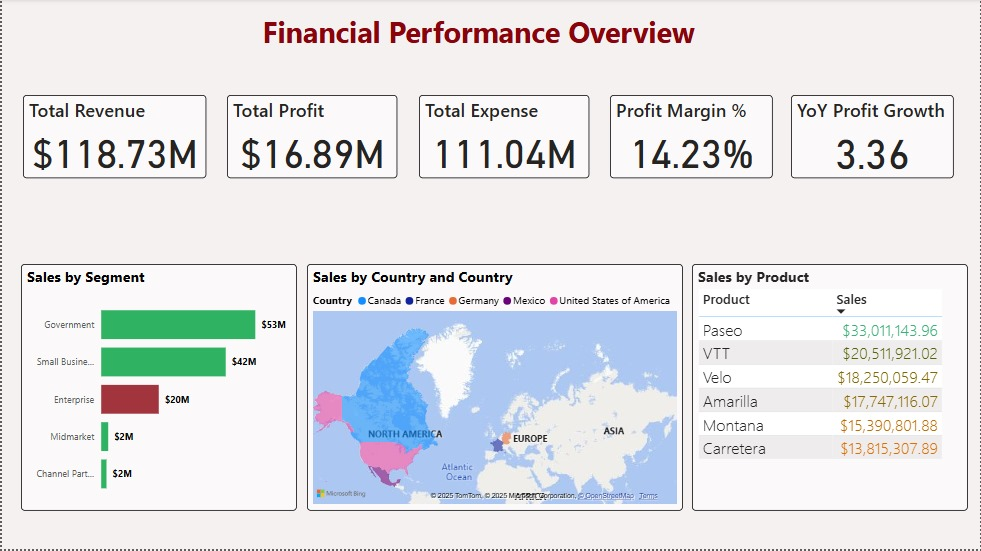

What the dashboard file says about the page in this screenshot:
{"tool":"powerbi","page":{"name":"Page 1","canvas":[1280,720],"ordinal":0},"visuals":[{"type":"textbox","box":[10.1,13,1226.9,69.1],"z":0},{"type":"card","title":"Total Revenue","fields":{"Values":["Sum(Financials.  Sales )"]},"box":[27.4,125.3,240.5,109.4],"z":1000},{"type":"card","title":"Total Profit","fields":{"Values":["Sum(Financials. Profit )"]},"box":[295.2,125.3,223.2,109.4],"z":2000},{"type":"barChart","title":"Sales  by Segment","fields":{"Category":["Financials.Segment"],"Y":["Sum(Financials.  Sales )"]},"box":[24.5,347,361.4,322.6],"z":3000},{"type":"filledMap","fields":{"Category":["Financials.Country"],"Series":["Financials.Country"]},"box":[398.9,347,492.5,322.6],"z":4000},{"type":"tableEx","title":"Sales by Product","fields":{"Values":["Financials.Product","Sum(Financials.  Sales )"]},"box":[902.9,347,361.4,322.6],"z":5000},{"type":"card","title":"Total Expense","fields":{"Values":["Financials.Total Expenses"]},"box":[545.8,125.3,223.2,109.4],"z":6000},{"type":"card","title":"Profit Margin %","fields":{"Values":["Financials.Profit Margin %"]},"box":[796.3,125.3,213.1,109.4],"z":7000},{"type":"card","title":"YoY Profit Growth","fields":{"Values":["Financials.YoY Profit Growth"]},"box":[1032.5,125.3,213.1,109.4],"z":8001}]}

Visuals, with their boxes in screenshot pixels (x1, y1, x2, y2), scaled from the page's 1280x720 canvas onto the 981x551 screenshot:
textbox: [8, 10, 948, 63]
"Total Revenue" card: [21, 96, 205, 180]
"Total Profit" card: [226, 96, 397, 180]
"Sales  by Segment" barChart: [19, 266, 296, 512]
filledMap - Financials.Country x Financials.Country: [306, 266, 683, 512]
"Sales by Product" tableEx: [692, 266, 969, 512]
"Total Expense" card: [418, 96, 589, 180]
"Profit Margin %" card: [610, 96, 774, 180]
"YoY Profit Growth" card: [791, 96, 955, 180]
